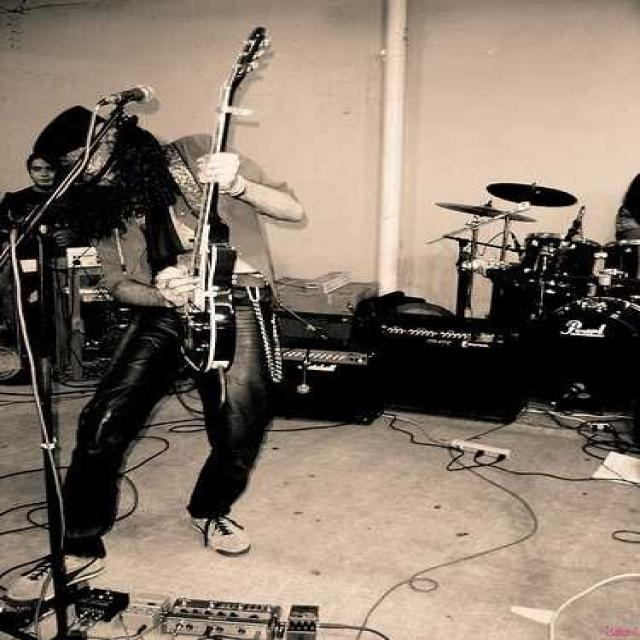microphone: (100, 84, 154, 107)
